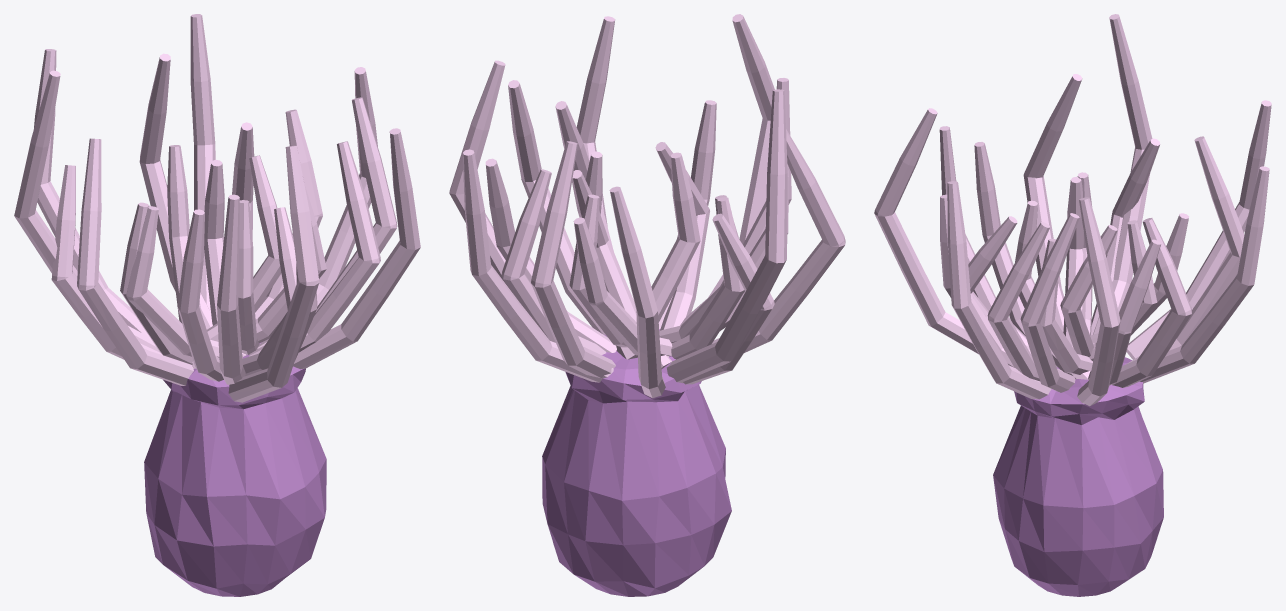
The model's file is 2_Anemone.obj.
The picture shows the model from 3 angles, left to right: view 1: azimuth 30°, elevation 25°; view 2: azimuth 150°, elevation 25°; view 3: azimuth 270°, elevation 25°; orthographic projection. The views are drawn at different scales.
Visible parts, largest first — view 1: Anemone; view 2: Anemone; view 3: Anemone.
Part boxes in pixels (bbox=[...]): Anemone: bbox=[14, 14, 420, 596]; Anemone: bbox=[449, 14, 845, 596]; Anemone: bbox=[874, 14, 1271, 596].
Size of the model in its own units: 89.98 by 131 by 96.55.
Materials: 1 (1 with a texture image).
